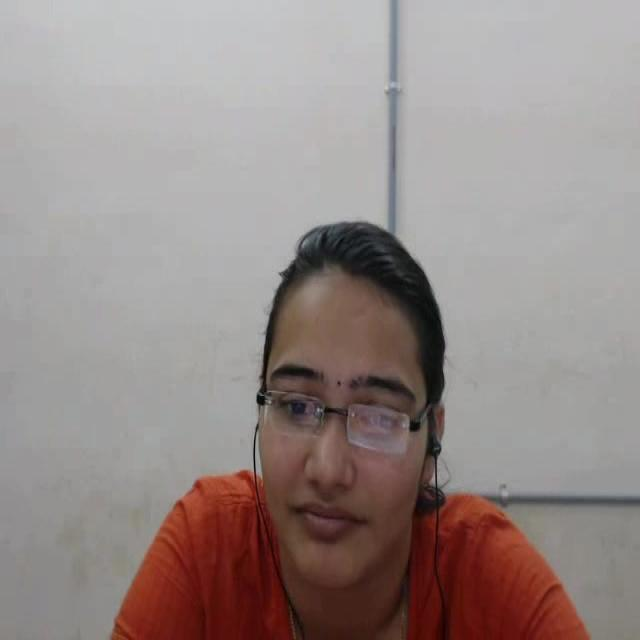Engaged: (239, 220, 485, 617)
